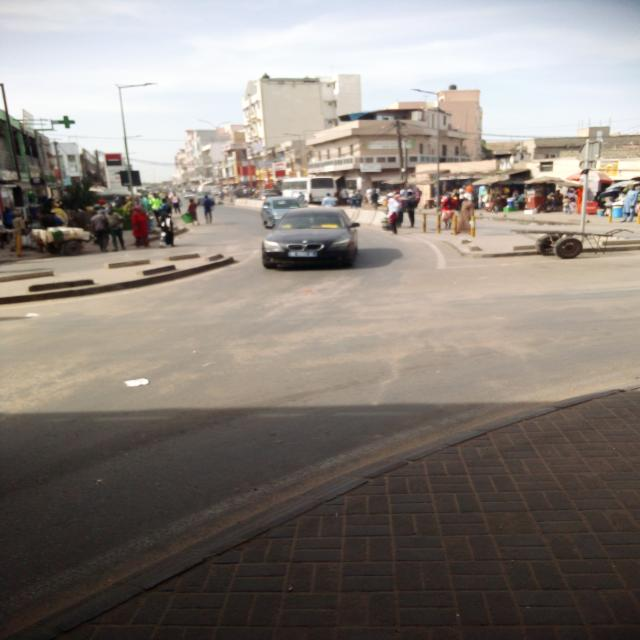bus tata: (283, 177, 338, 204)
particulier: (263, 210, 359, 270), (263, 199, 303, 229)
pousse pousse: (513, 230, 629, 260), (33, 227, 93, 256)
